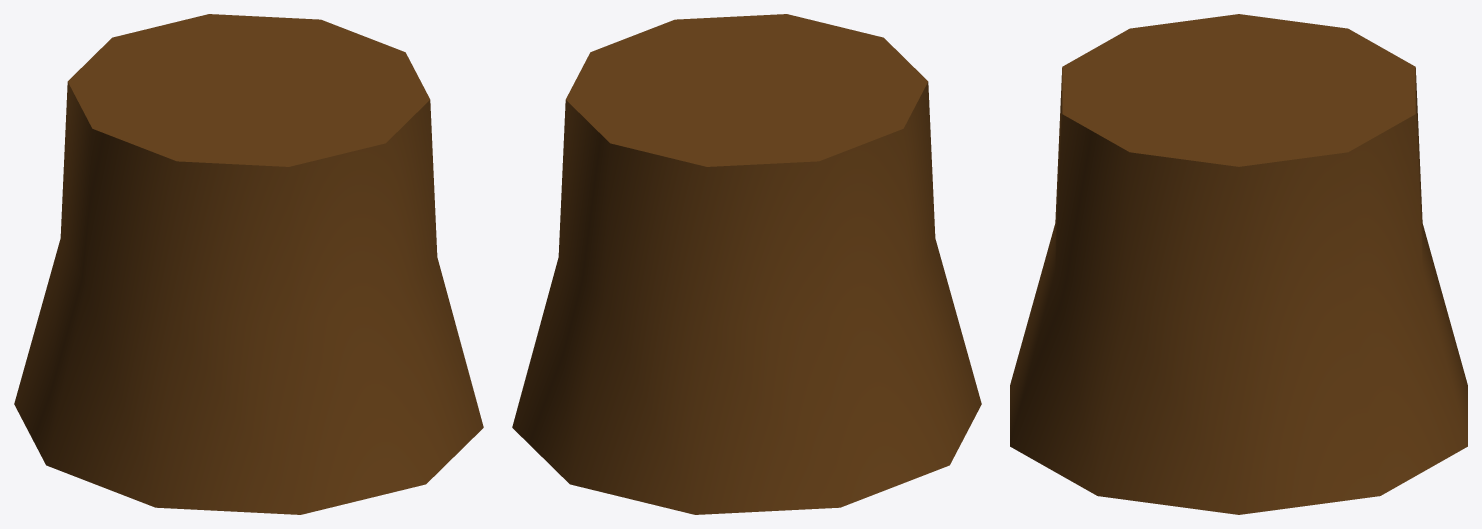
File: tree stump_texture1.fbx
The picture shows the model from 3 angles, left to right: view 1: azimuth 30°, elevation 25°; view 2: azimuth 150°, elevation 25°; view 3: azimuth 270°, elevation 25°; orthographic projection.
Parts seen in each view (by area): view 1: tree_stump; view 2: tree_stump; view 3: tree_stump.
Part boxes in pixels (x1=…): tree_stump: x1=14, y1=14, x2=483, y2=514; tree_stump: x1=512, y1=14, x2=981, y2=514; tree_stump: x1=1010, y1=14, x2=1467, y2=514.
Size of the model in its own units: 1.9 by 1.46 by 1.86.
